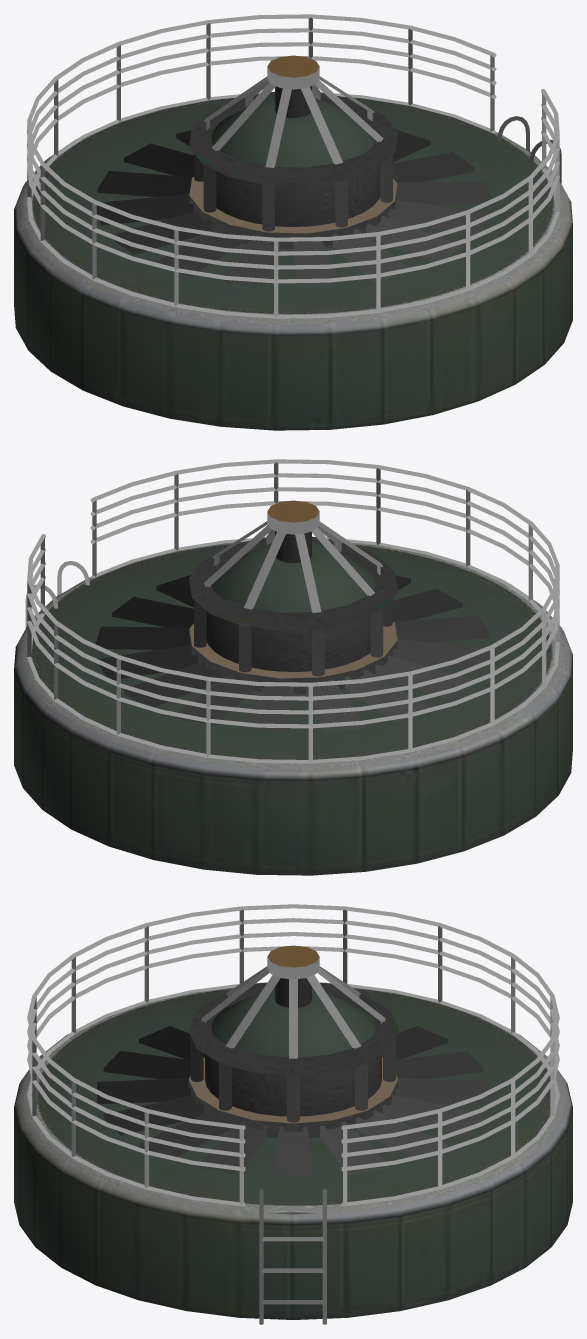
The model's file is generator.glb.
The picture shows the model from 3 angles, top to bottom: view 1: azimuth 30°, elevation 25°; view 2: azimuth 150°, elevation 25°; view 3: azimuth 270°, elevation 25°; orthographic projection.
Visible parts, largest first — view 1: 0_hydro_generator; view 2: 0_hydro_generator; view 3: 0_hydro_generator.
Part boxes in pixels (left/top/right/bottom): 0_hydro_generator: left=14, top=14, right=572, bottom=430; 0_hydro_generator: left=14, top=459, right=572, bottom=875; 0_hydro_generator: left=14, top=904, right=572, bottom=1324.
Size of the model in its own units: 6.63 by 3.15 by 6.5.
Materials: 1 (1 with a texture image).
